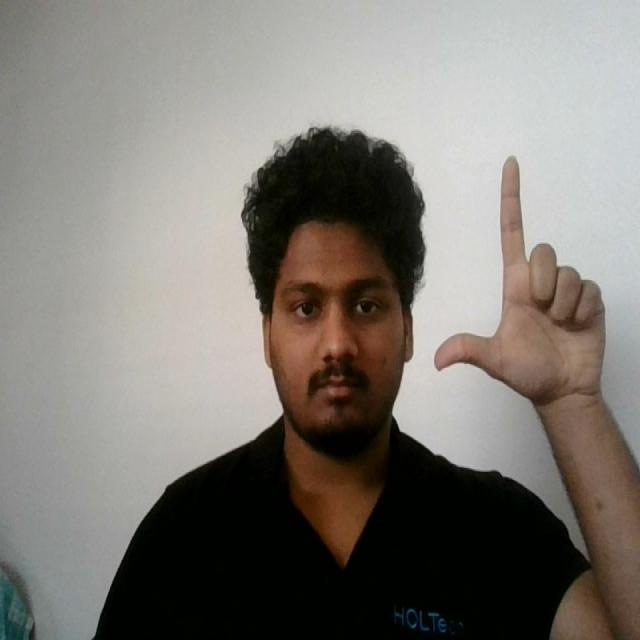IloveYou: (427, 150, 613, 415)
